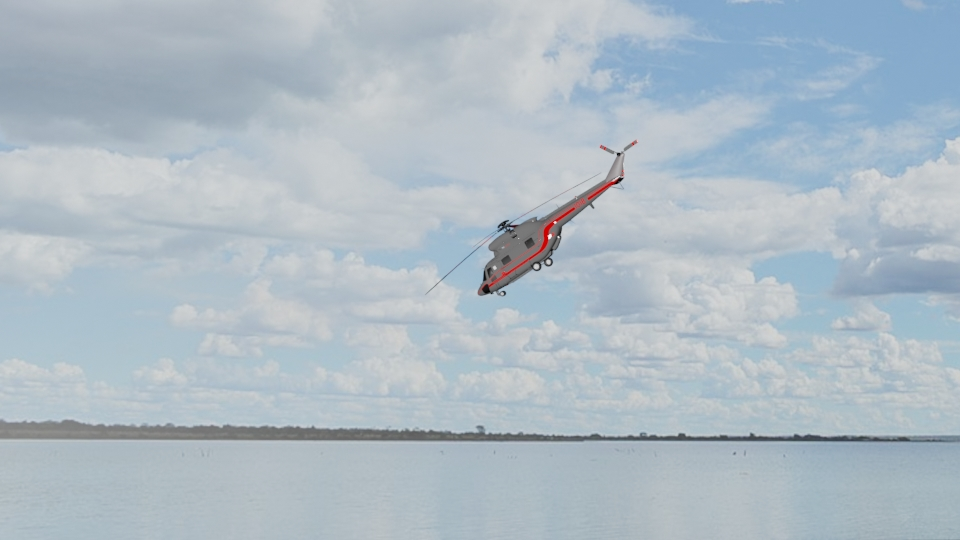heli: (475, 140, 638, 297)
